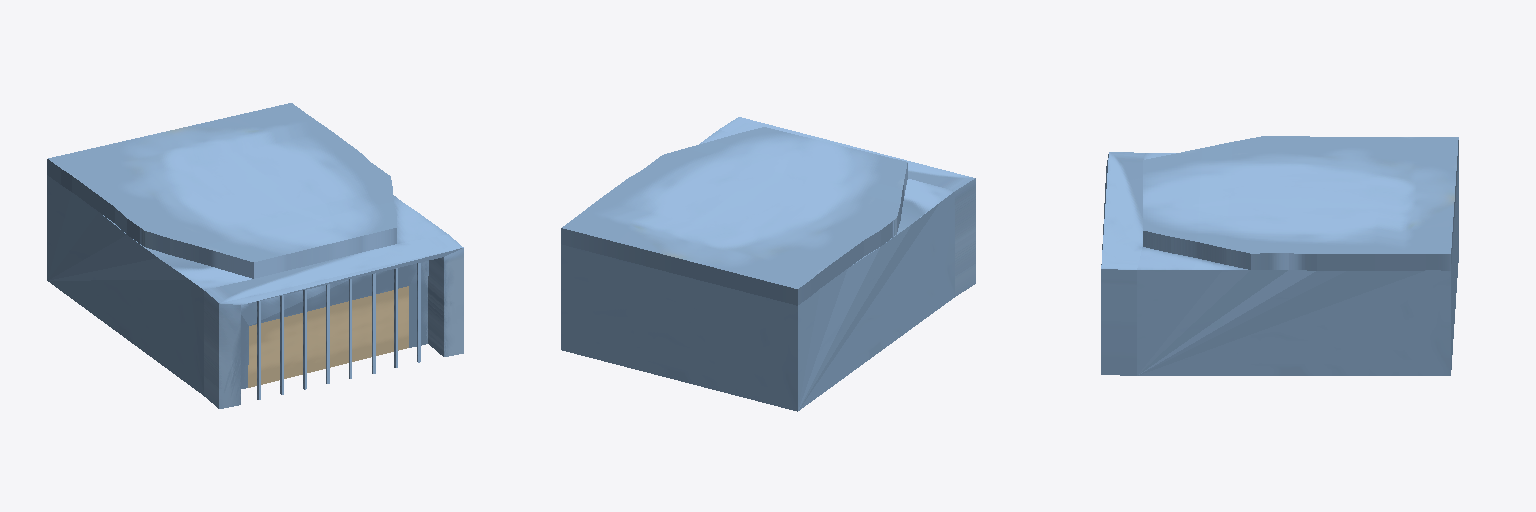
3 views of the same model, side by side, from view 1: azimuth 30°, elevation 25°; view 2: azimuth 150°, elevation 25°; view 3: azimuth 270°, elevation 25° (orthographic).
Visible parts, largest first — view 1: Box003; view 2: Box003; view 3: Box003.
Boxes of the visible parts, x1=… form: Box003: x1=47, y1=103, x2=463, y2=408; Box003: x1=561, y1=117, x2=975, y2=411; Box003: x1=1101, y1=136, x2=1458, y2=375.
Bounding box in the file's own units: 179 × 85.68 × 227.
Materials: 1 (1 with a texture image).